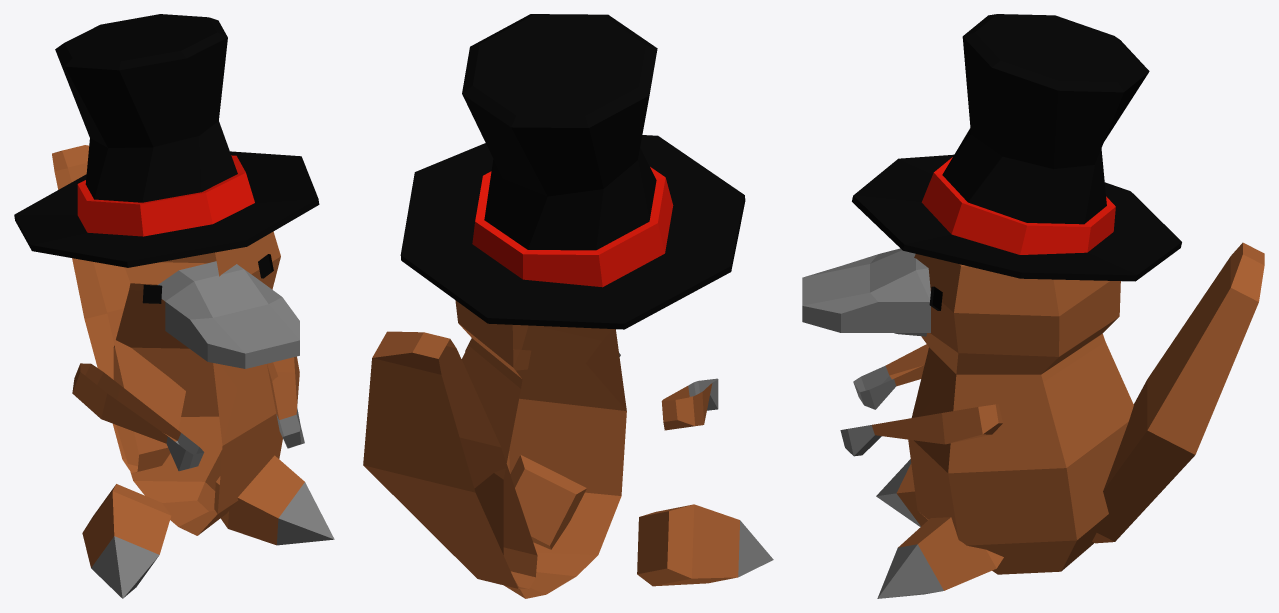
The model's file is Plat.glb.
3 views of the same model, side by side, from view 1: azimuth 30°, elevation 25°; view 2: azimuth 150°, elevation 25°; view 3: azimuth 270°, elevation 25° (orthographic). The views are drawn at different scales.
Parts seen in each view (by area): view 1: Cylinder, Sphere, Cube, Cube.003, Cube.005, Cube.002, Cube.004, Cube.001; view 2: Cylinder, Sphere, Cube.003, Cube.005, Cube.002, Cube.004; view 3: Cylinder, Sphere, Cube.003, Cube, Cube.002, Cube.001, Cube.004, Cube.005.
Part boxes in pixels (x1=…): Cylinder: x1=14, y1=14, x2=319, y2=267; Sphere: x1=113, y1=231, x2=282, y2=535; Cube: x1=158, y1=261, x2=299, y2=368; Cube.003: x1=52, y1=145, x2=185, y2=473; Cube.005: x1=82, y1=484, x2=171, y2=598; Cube.002: x1=214, y1=455, x2=334, y2=545; Cube.004: x1=72, y1=363, x2=204, y2=471; Cube.001: x1=267, y1=356, x2=304, y2=448; Cylinder: x1=400, y1=14, x2=745, y2=329; Sphere: x1=455, y1=300, x2=626, y2=598; Cube.003: x1=363, y1=331, x2=537, y2=589; Cube.005: x1=637, y1=504, x2=773, y2=586; Cube.002: x1=510, y1=455, x2=586, y2=549; Cube.004: x1=661, y1=378, x2=718, y2=430; Cylinder: x1=852, y1=14, x2=1181, y2=281; Sphere: x1=908, y1=254, x2=1133, y2=574; Cube.003: x1=1092, y1=242, x2=1264, y2=543; Cube: x1=802, y1=248, x2=930, y2=336; Cube.002: x1=877, y1=517, x2=1003, y2=598; Cube.001: x1=840, y1=404, x2=1002, y2=456; Cube.004: x1=853, y1=344, x2=928, y2=409; Cube.005: x1=876, y1=459, x2=927, y2=526.
Bounding box in the file's own units: 2.77 × 4.84 × 3.81.
